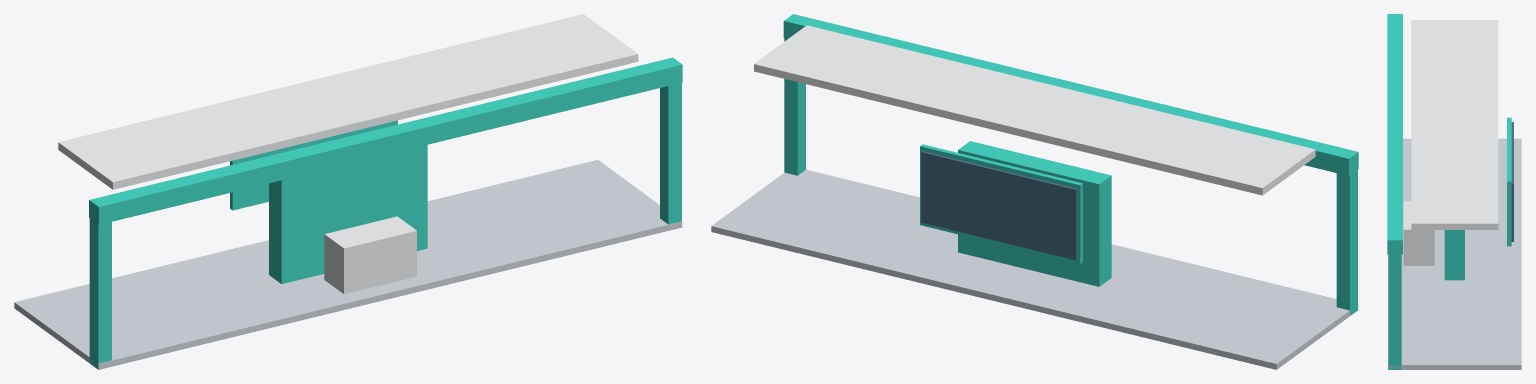
The picture shows the model from 3 angles, left to right: view 1: azimuth 30°, elevation 25°; view 2: azimuth 150°, elevation 25°; view 3: azimuth 270°, elevation 25°; orthographic projection. The views are drawn at different scales.
Parts seen in each view (by area): view 1: Exhibition Booth Concept; view 2: Exhibition Booth Concept; view 3: Exhibition Booth Concept.
Boxes of the visible parts, x1,y1,x2,y2 form: Exhibition Booth Concept: (14, 14, 682, 369); Exhibition Booth Concept: (711, 14, 1358, 369); Exhibition Booth Concept: (1387, 14, 1521, 369).
Size of the model in its own units: 12 by 3.34 by 3.01.
